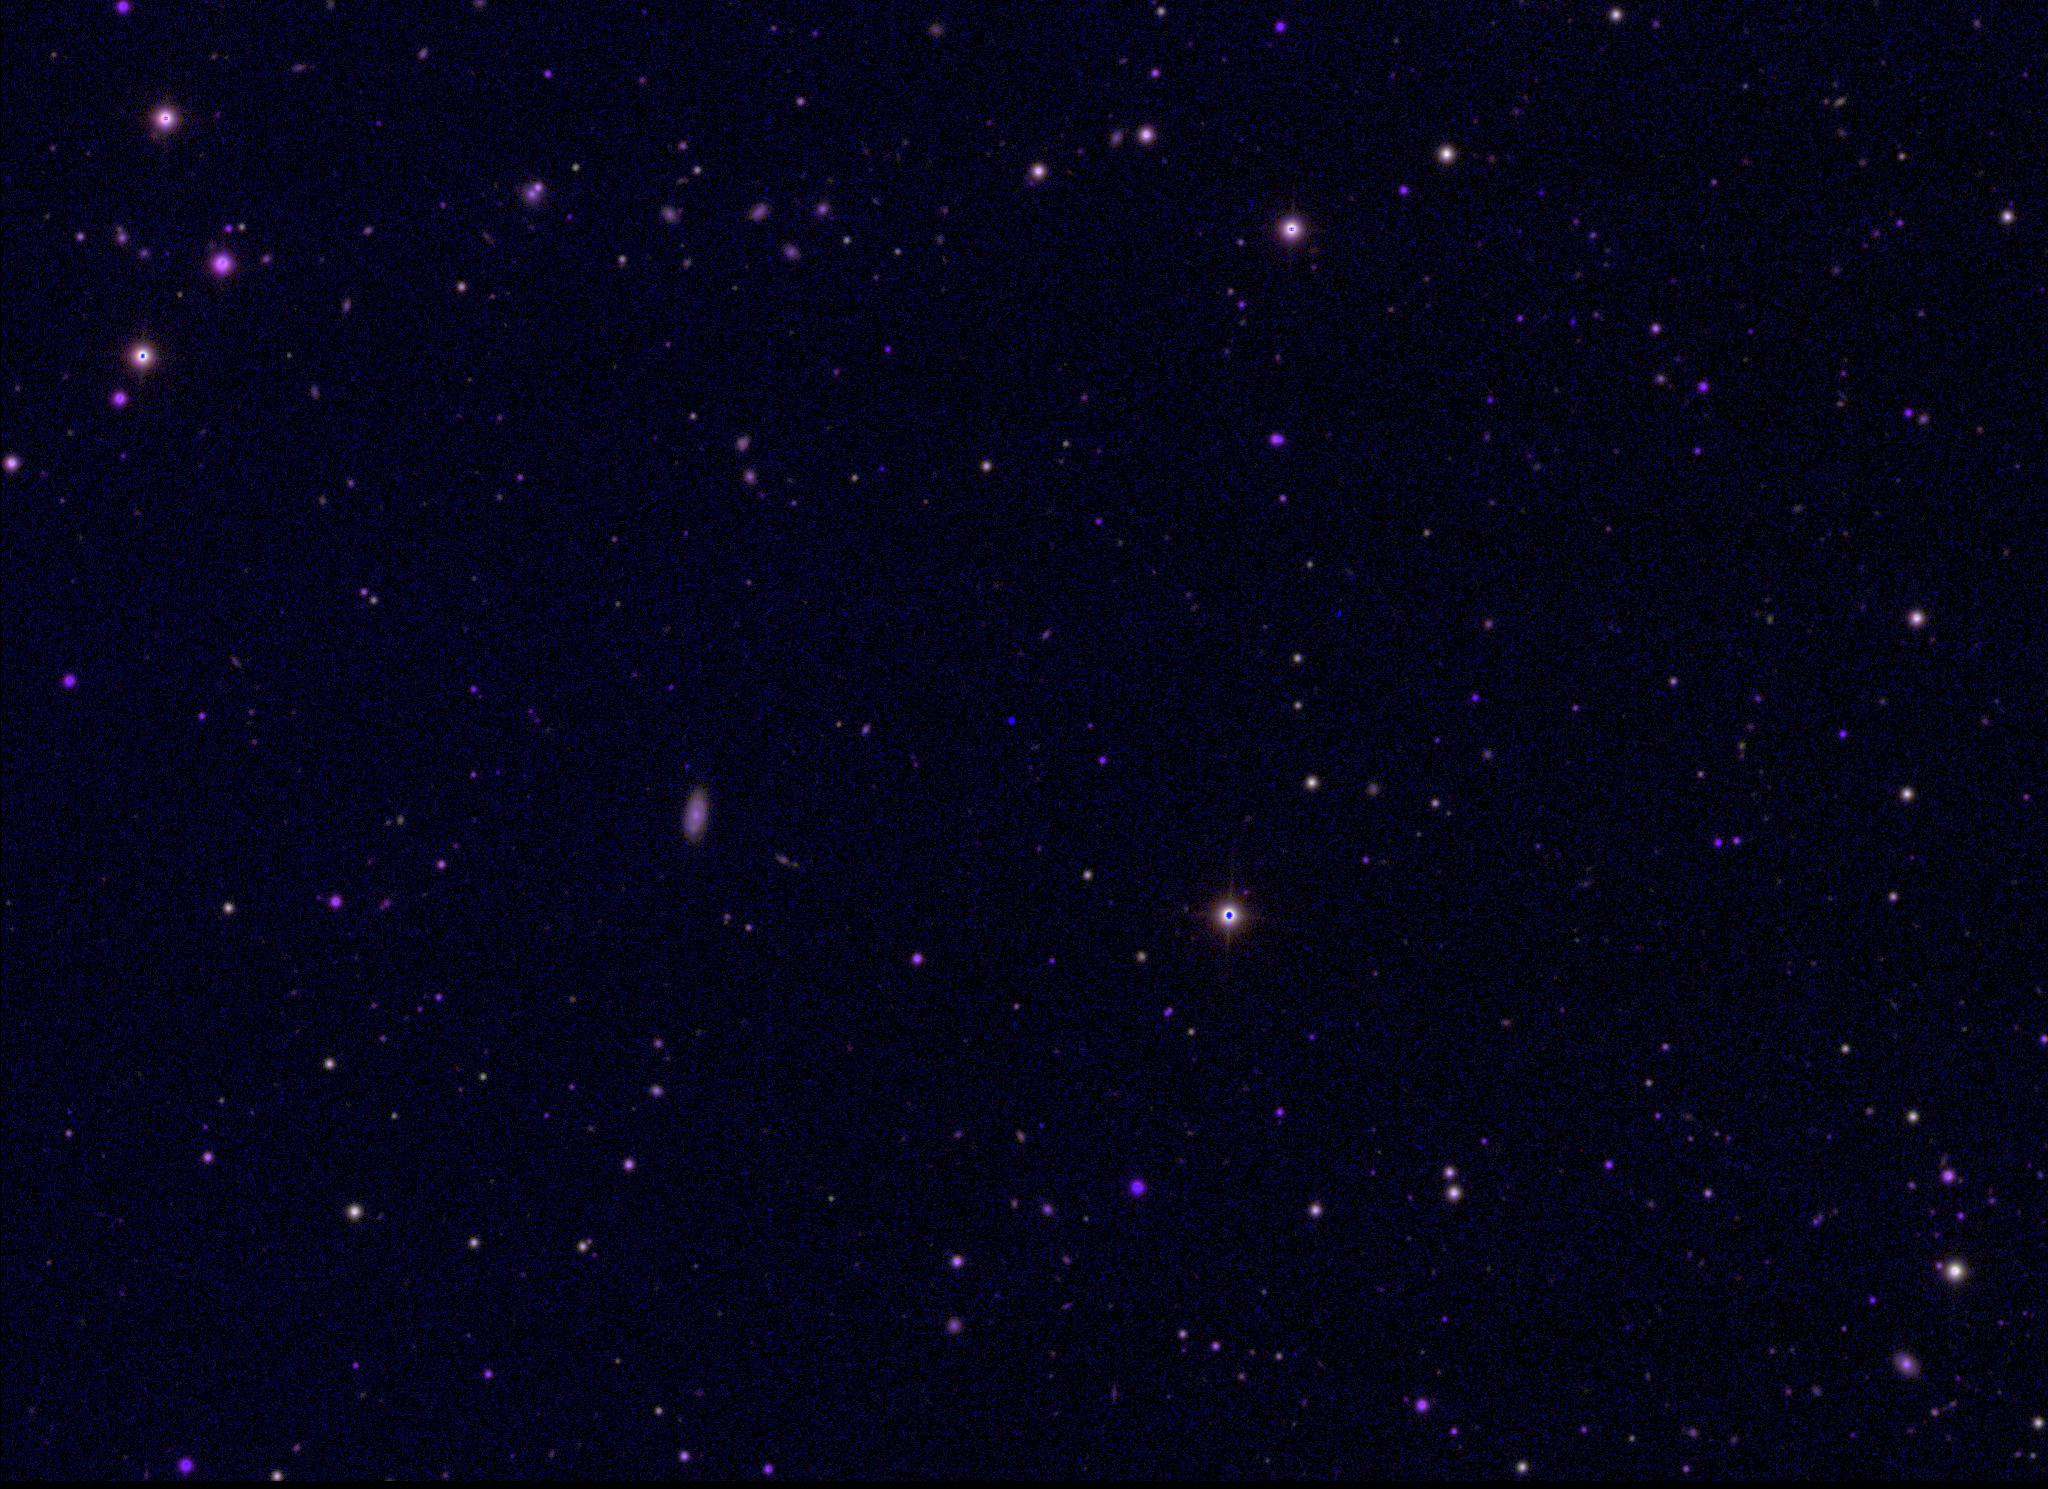L: (1005, 714, 1019, 729)
